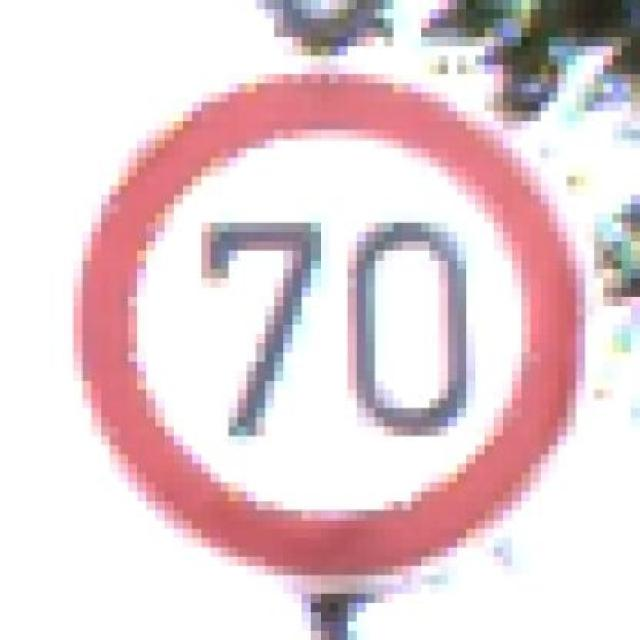forb_speed_over_70: (78, 73, 578, 579)
